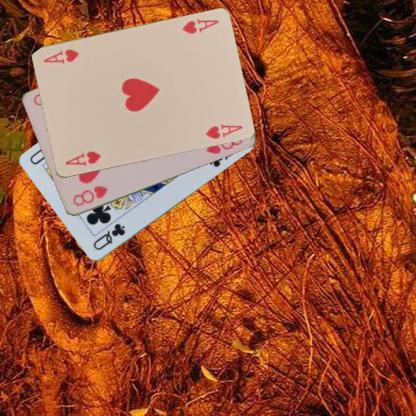8h: (70, 183, 109, 208)
Ah: (179, 16, 220, 36), (62, 149, 102, 168)
Qc: (90, 221, 127, 252)
